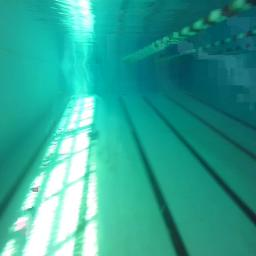Full: (88, 131, 99, 139)
